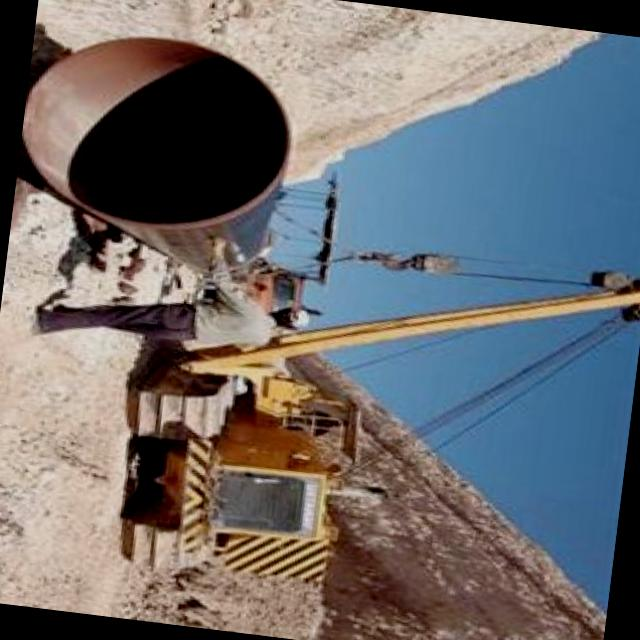gas: (20, 39, 288, 271)
